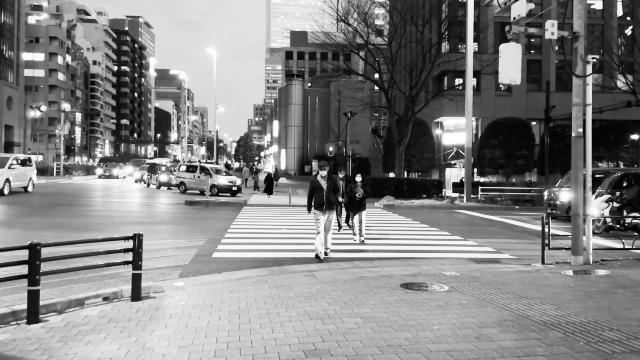berjalan: (298, 159, 338, 263), (346, 170, 370, 248)
